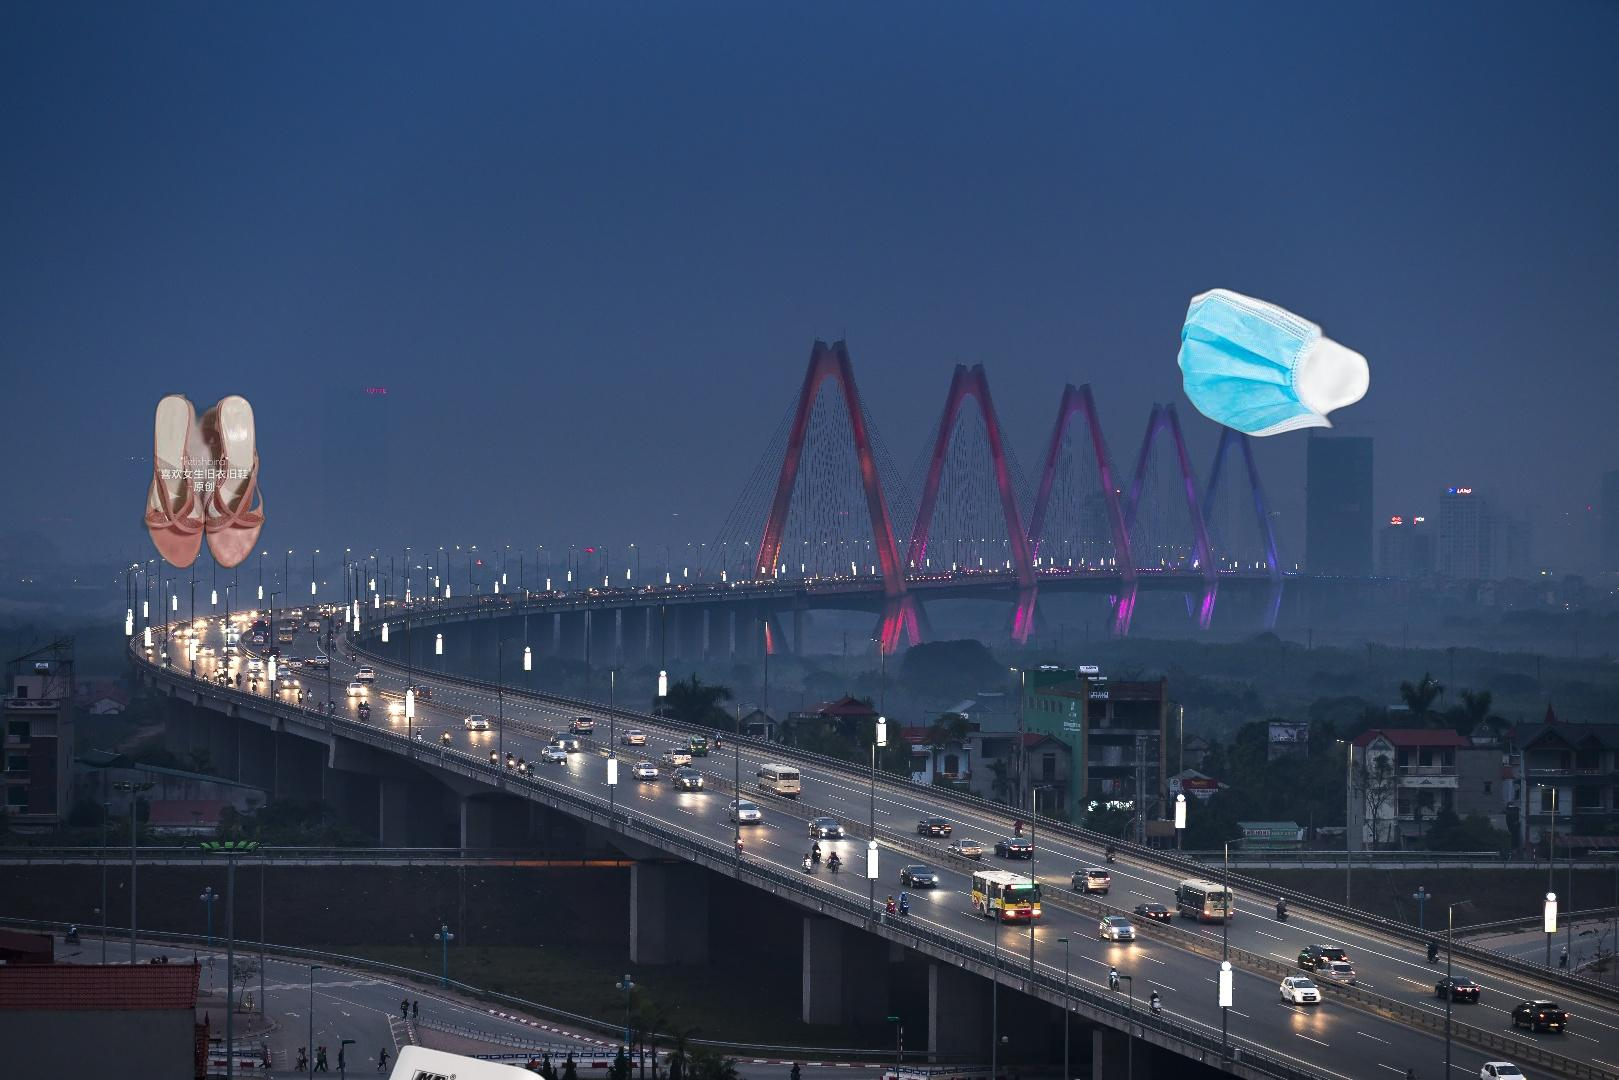battery: (282, 1041, 553, 1080)
shoes: (137, 391, 268, 571)
trash: (1174, 284, 1373, 440)
